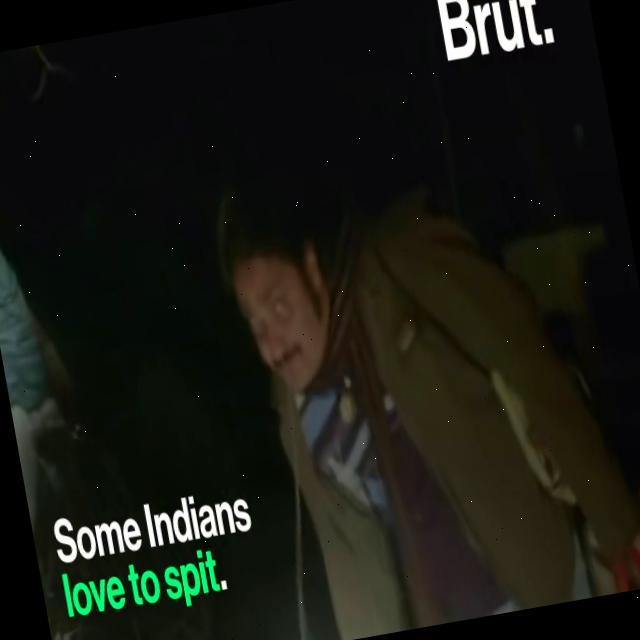spit: (241, 321, 331, 640)
